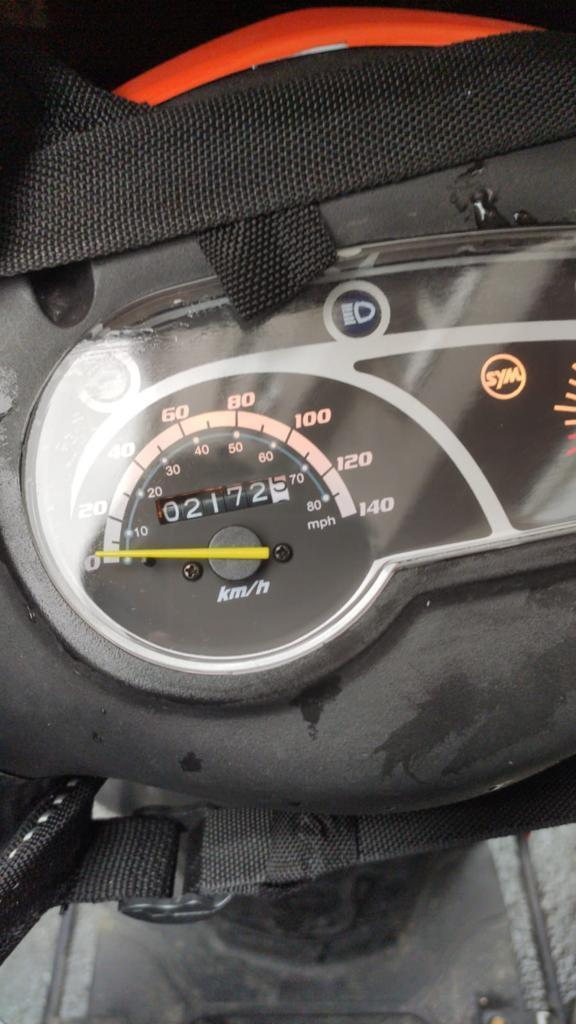0: (161, 502, 179, 522), (155, 484, 163, 498)
1: (207, 488, 221, 517)
2: (183, 497, 203, 521), (249, 479, 268, 504)
5: (271, 473, 288, 494)
7: (225, 483, 243, 510)
odometer: (155, 473, 290, 526)
